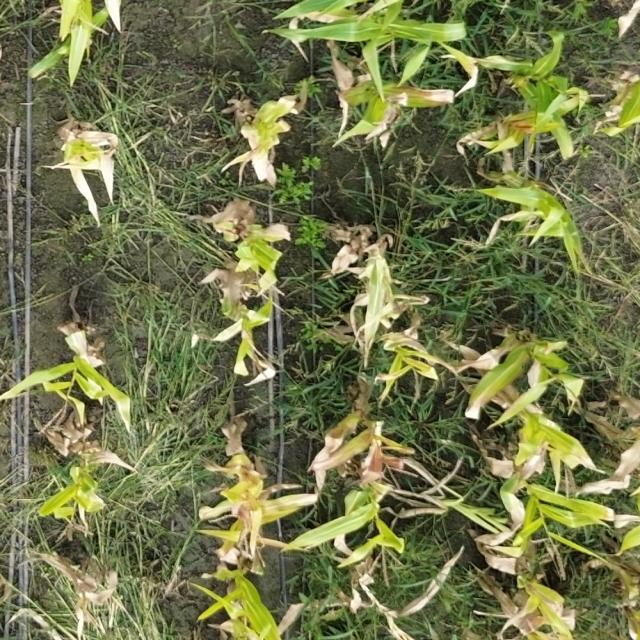northern-leaf-blight: (294, 402, 375, 473), (504, 107, 568, 158)
